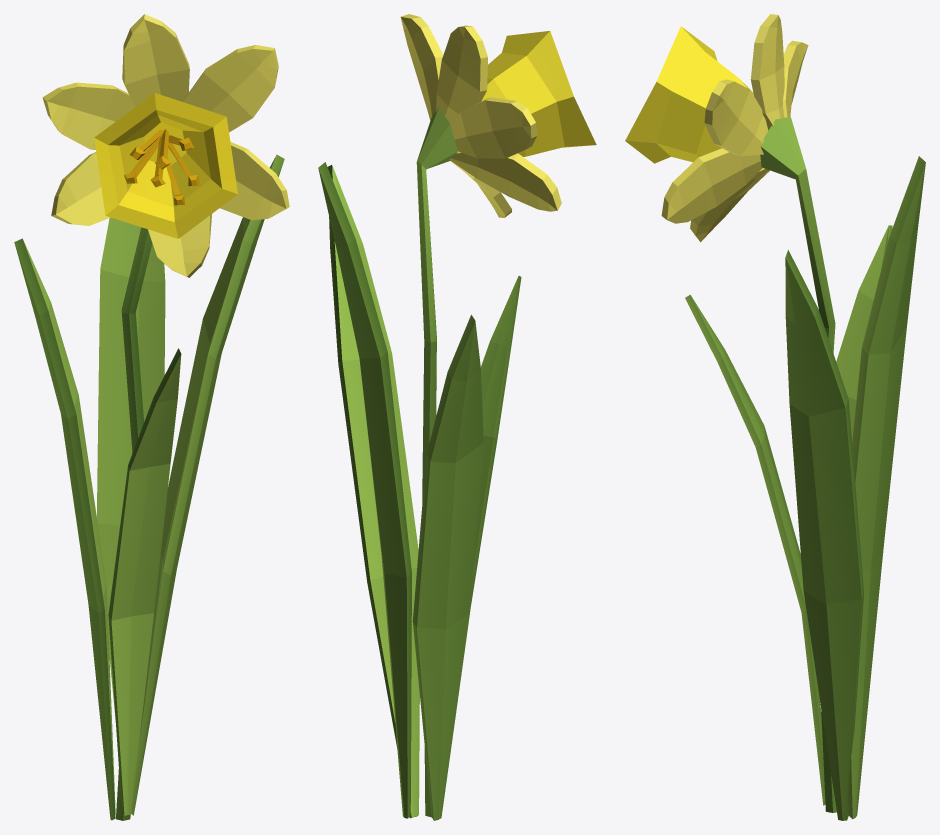
File: dm11.flower.v2.01.glb
3 views of the same model, side by side, from view 1: azimuth 30°, elevation 25°; view 2: azimuth 150°, elevation 25°; view 3: azimuth 270°, elevation 25° (orthographic). The views are drawn at different scales.
Parts seen in each view (by area): view 1: PP_Daffodil_03.001_PP_Standard_Material_0; view 2: PP_Daffodil_03.001_PP_Standard_Material_0; view 3: PP_Daffodil_03.001_PP_Standard_Material_0.
Boxes of the visible parts, bbox=[...] form: PP_Daffodil_03.001_PP_Standard_Material_0: bbox=[14, 14, 289, 820]; PP_Daffodil_03.001_PP_Standard_Material_0: bbox=[318, 14, 596, 820]; PP_Daffodil_03.001_PP_Standard_Material_0: bbox=[625, 14, 925, 820].
Bounding box in the file's own units: 0.0974 × 0.3214 × 0.1102.
Materials: 1 (1 with a texture image).
